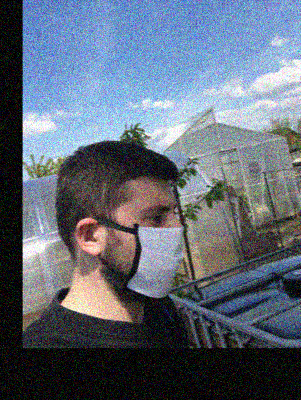with_mask: (123, 199, 184, 303)
